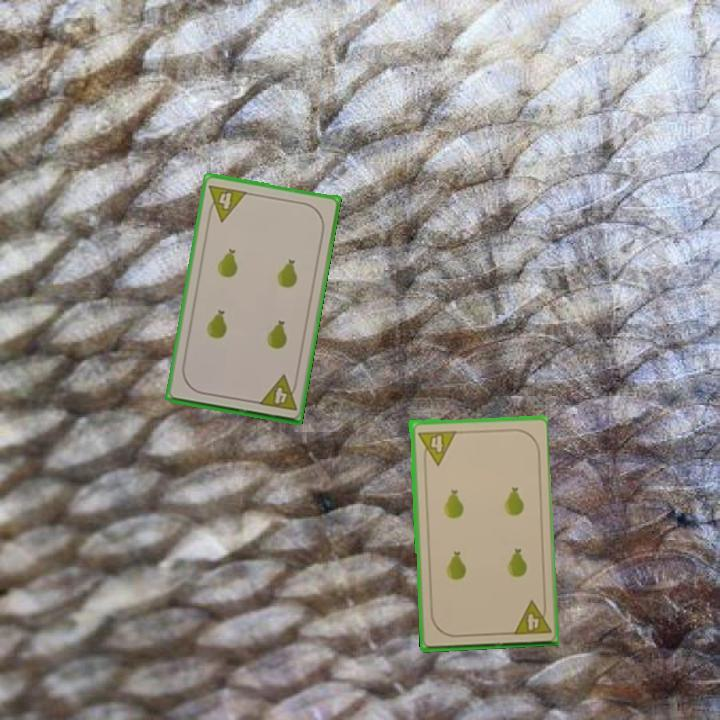4p: (204, 181, 250, 224), (255, 372, 300, 414), (509, 596, 554, 637), (413, 427, 457, 467)
